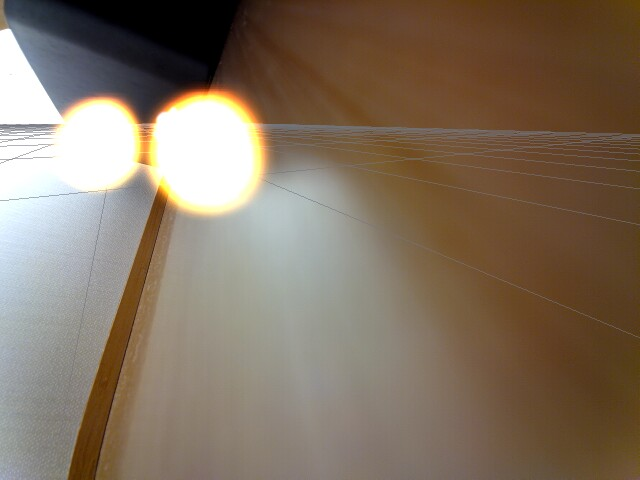firebig: (148, 73, 269, 232)
